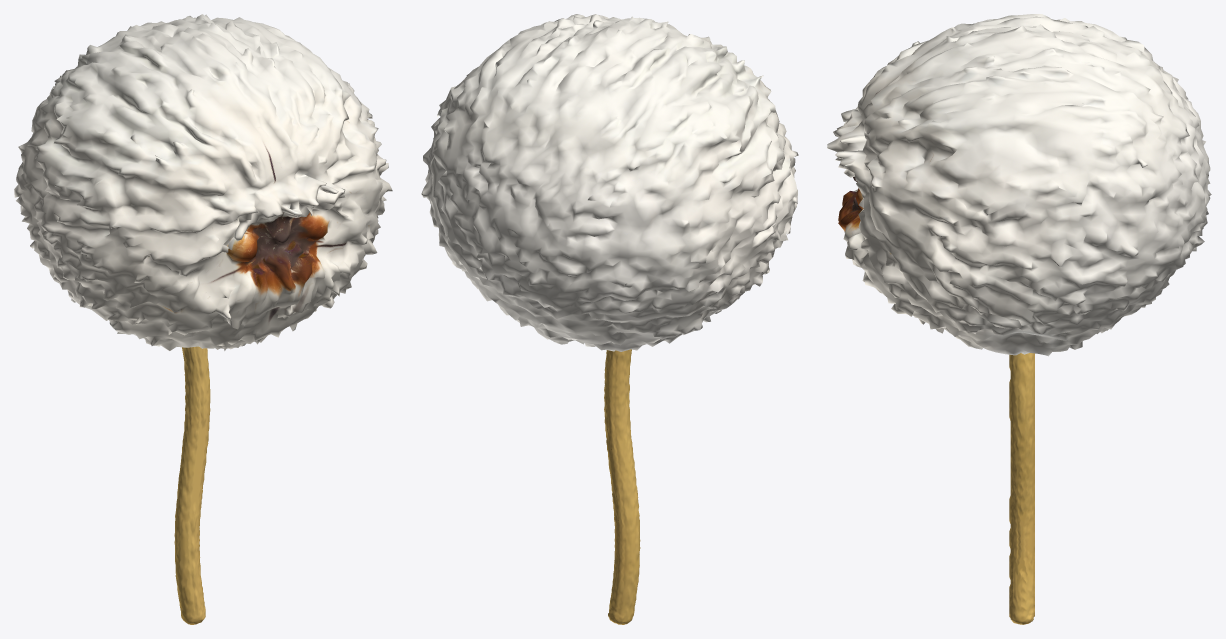
The model's file is seed_puff.glb.
The picture shows the model from 3 angles, left to right: view 1: azimuth 30°, elevation 25°; view 2: azimuth 150°, elevation 25°; view 3: azimuth 270°, elevation 25°; orthographic projection. The views are drawn at different scales.
Bounding box in the file's own units: 1.09 × 1.9 × 1.11.
1 material, 1 textured.
